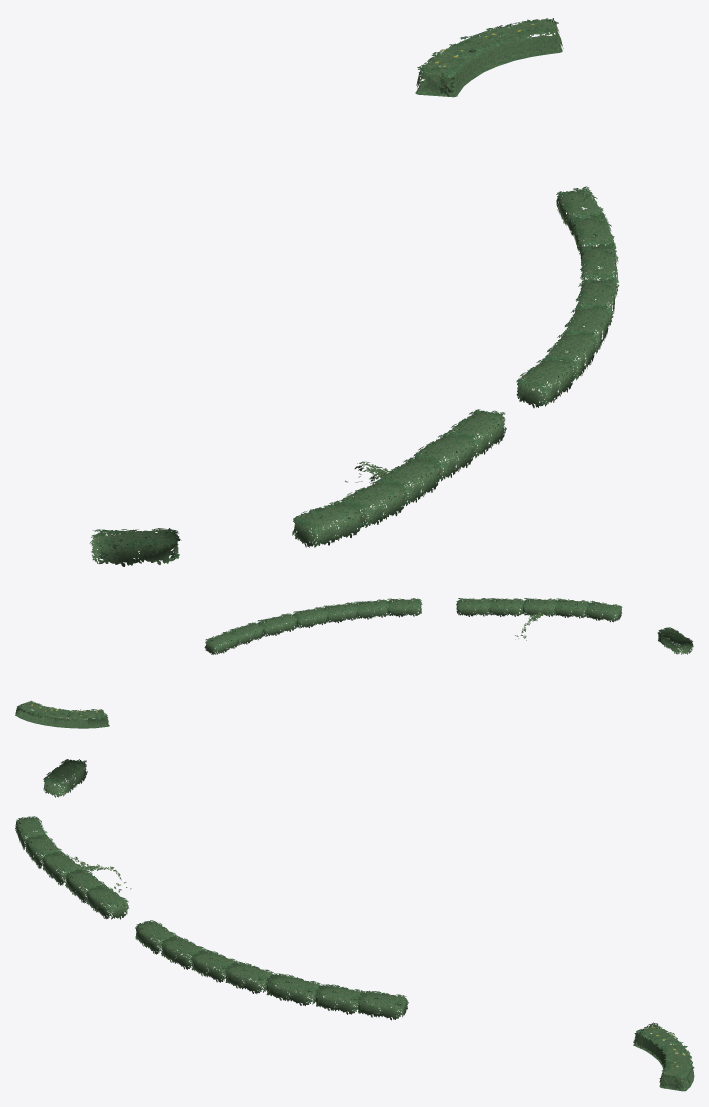
Rendered from pref_sm_beach_bk_pointmol_longplant_L_lv2.fbx.
The picture shows the model from 3 angles, top to bottom: view 1: azimuth 30°, elevation 25°; view 2: azimuth 150°, elevation 25°; view 3: azimuth 270°, elevation 25°; orthographic projection. The views are drawn at different scales.
Visible parts, largest first — view 1: pref_sm_beach_bk_pointmol_longplant_L_lv2; view 2: pref_sm_beach_bk_pointmol_longplant_L_lv2; view 3: pref_sm_beach_bk_pointmol_longplant_L_lv2.
Boxes of the visible parts, x1,y1,x2,y2 form: pref_sm_beach_bk_pointmol_longplant_L_lv2: (89,18,619,566); pref_sm_beach_bk_pointmol_longplant_L_lv2: (15,598,693,728); pref_sm_beach_bk_pointmol_longplant_L_lv2: (15,759,694,1091).
Size of the model in its own units: 59.1 by 2.98 by 55.29.
